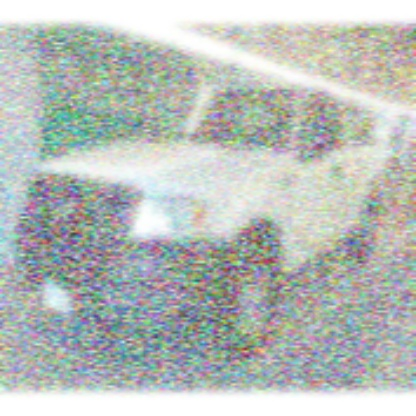Vehicle: (19, 94, 392, 368)
